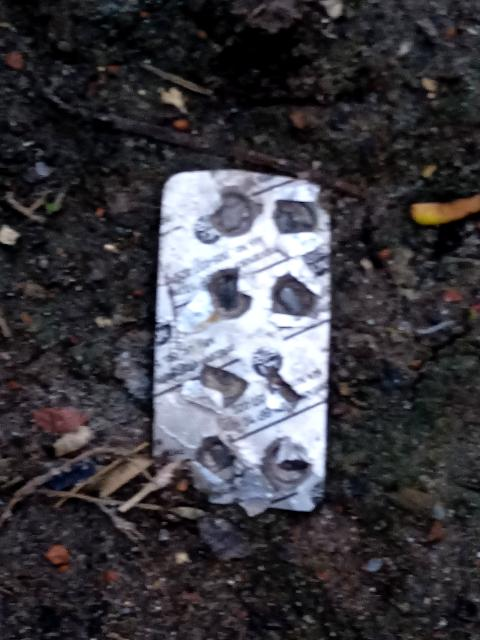medicine: (151, 162, 341, 500)
